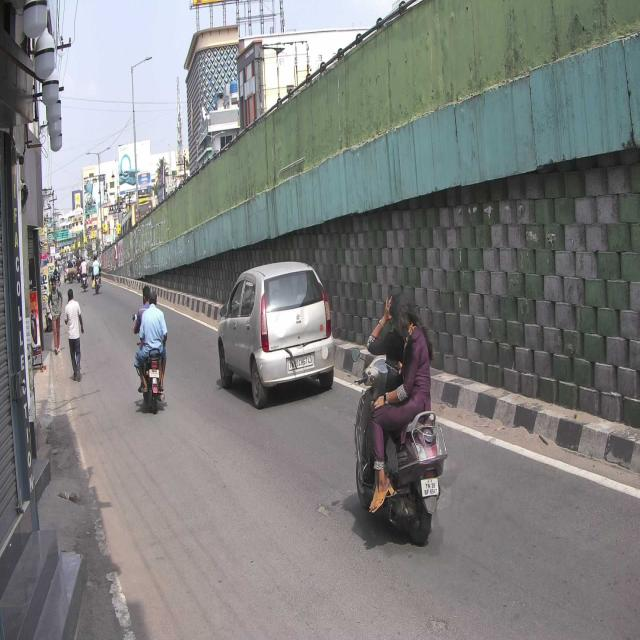double_rider: (352, 284, 448, 552)
